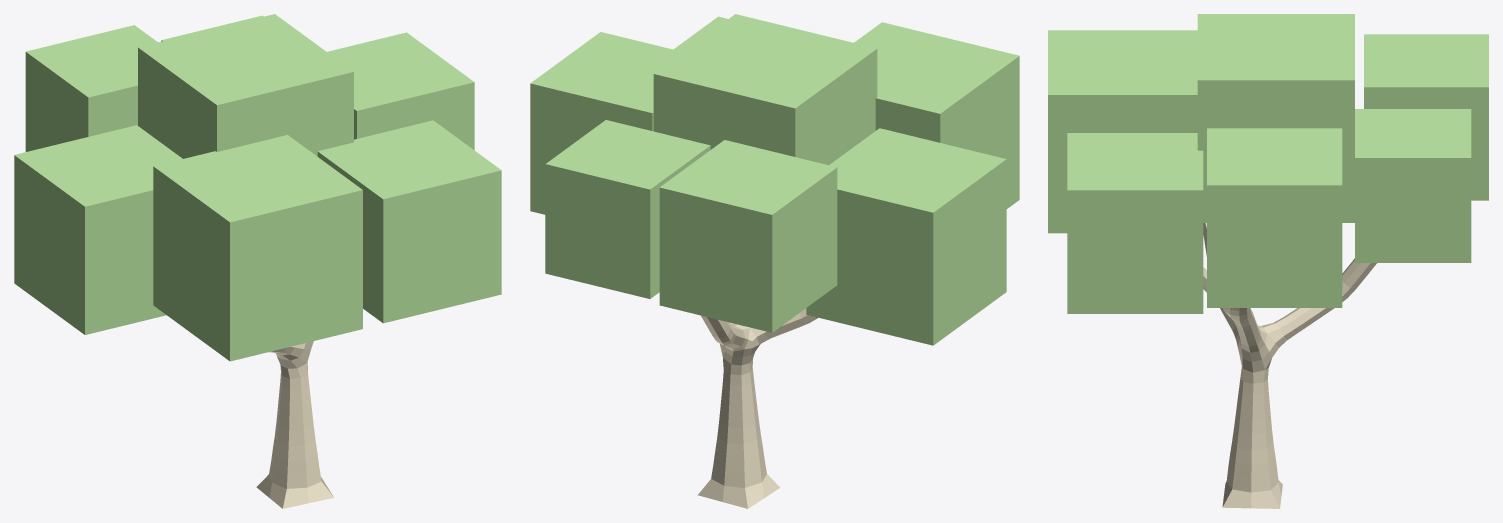
Rendered from redgumtree_level1.glb.
The picture shows the model from 3 angles, left to right: view 1: azimuth 30°, elevation 25°; view 2: azimuth 150°, elevation 25°; view 3: azimuth 270°, elevation 25°; orthographic projection. The views are drawn at different scales.
Visible parts, largest first — view 1: 立方体.001; view 2: 立方体.001; view 3: 立方体.001.
Boxes of the visible parts, left/top/right/bottom form: 立方体.001: left=14, top=14, right=501, bottom=508; 立方体.001: left=530, top=14, right=1019, bottom=508; 立方体.001: left=1048, top=14, right=1488, bottom=508.
Bounding box in the file's own units: 5.64 × 5.97 × 5.54.
